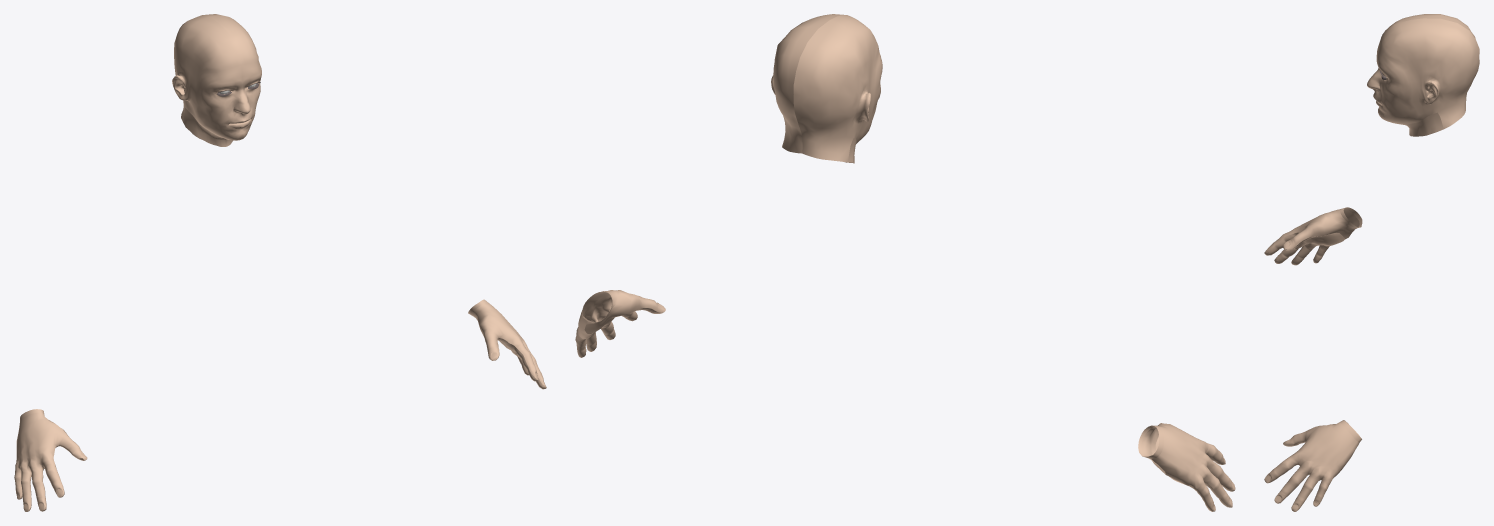
The model's file is body_field_suit.glb.
The picture shows the model from 3 angles, left to right: view 1: azimuth 30°, elevation 25°; view 2: azimuth 150°, elevation 25°; view 3: azimuth 270°, elevation 25°; orthographic projection. The views are drawn at different scales.
Visible parts, largest first — view 1: Body; view 2: Body; view 3: Body.
Boxes of the visible parts, box(x1,y1,x2,y2) form: Body: box(14, 14, 546, 511); Body: box(575, 14, 1235, 511); Body: box(1264, 14, 1479, 511).
Size of the model in its own units: 1.15 by 0.8016 by 0.4227.
